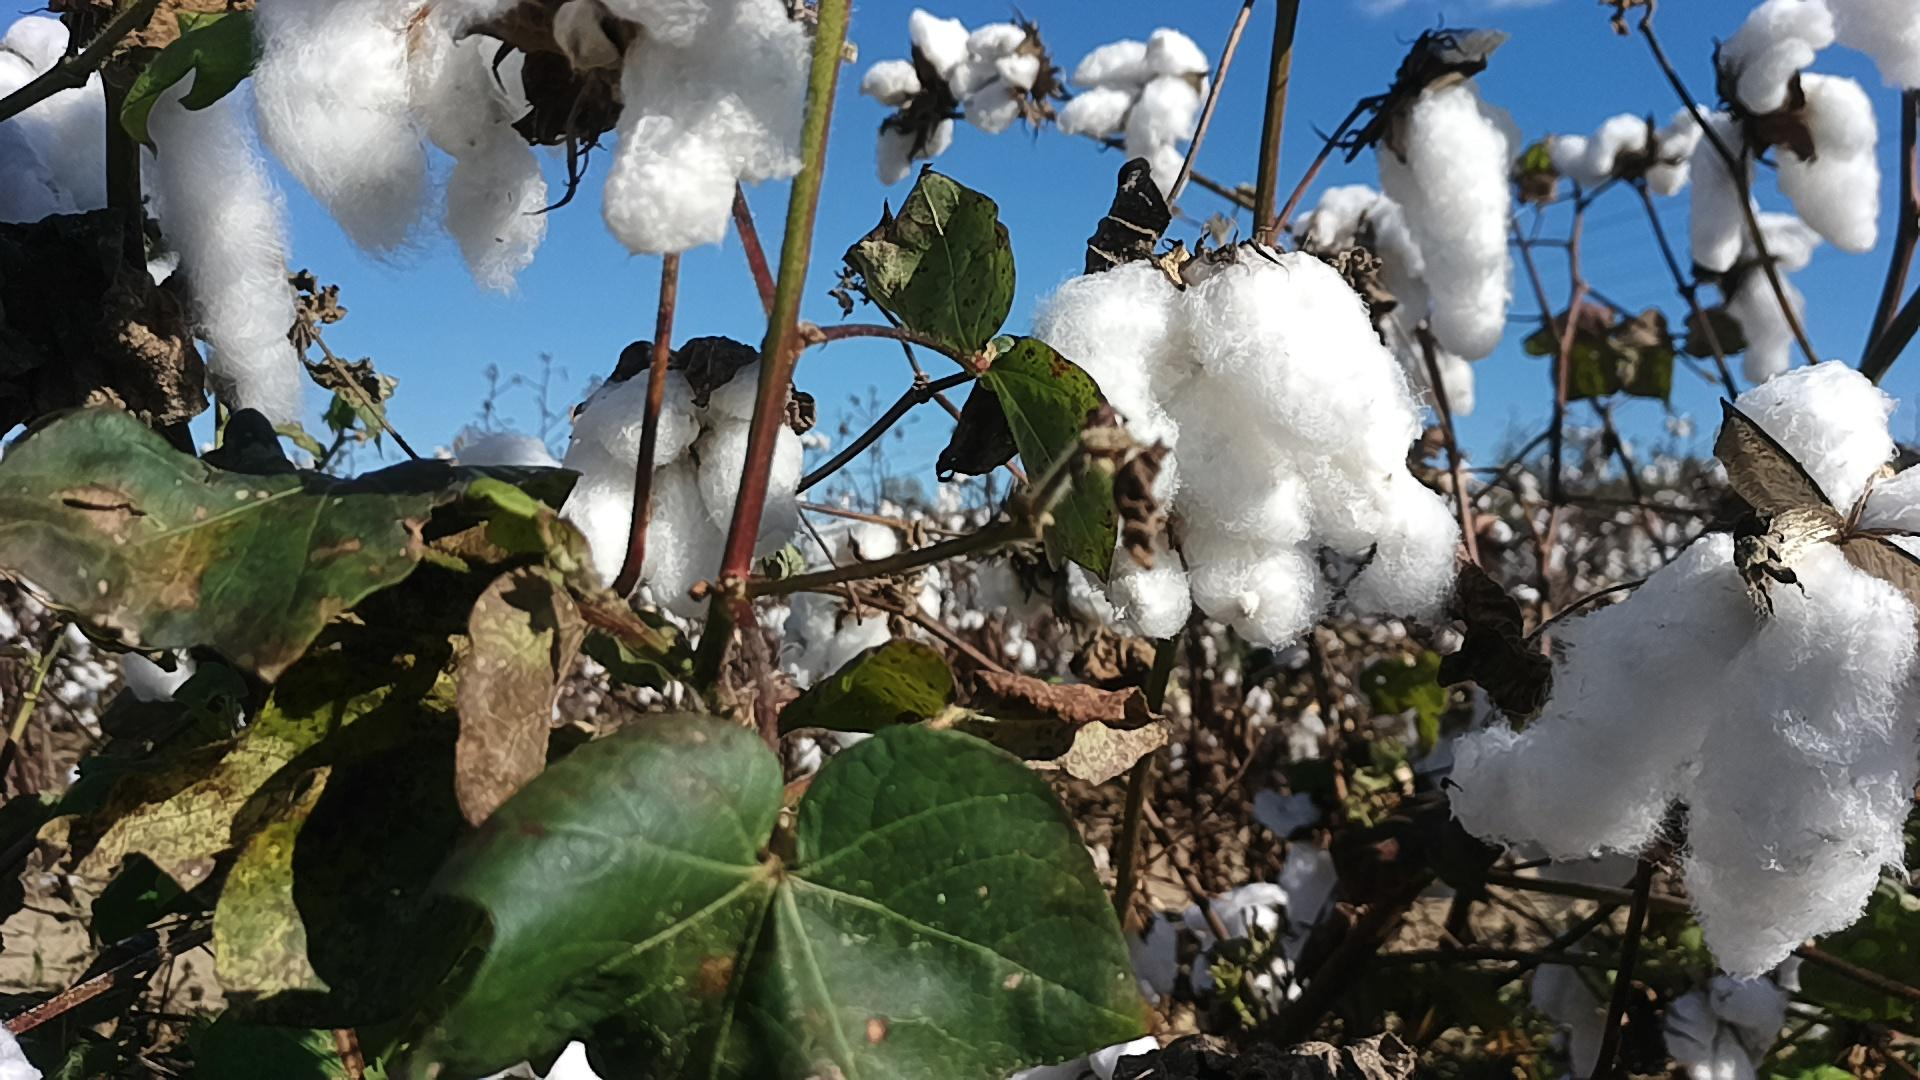cotton_ready: (1510, 357, 1920, 985), (1031, 253, 1415, 541), (258, 0, 566, 301), (560, 363, 800, 622), (152, 63, 313, 433), (1112, 483, 1458, 640), (601, 0, 814, 256), (1689, 0, 1878, 273), (1290, 185, 1478, 426), (783, 521, 940, 749), (1379, 83, 1509, 357), (0, 13, 150, 229), (1135, 884, 1303, 1010), (1060, 25, 1213, 164), (864, 5, 973, 185), (1553, 103, 1718, 202), (1727, 203, 1813, 381), (976, 535, 1126, 633), (1250, 789, 1336, 939), (1664, 976, 1785, 1080), (1458, 720, 1527, 858), (960, 22, 1038, 133), (1007, 1035, 1168, 1080), (460, 430, 558, 483), (121, 641, 198, 702), (481, 1043, 603, 1080), (0, 1021, 46, 1080)
